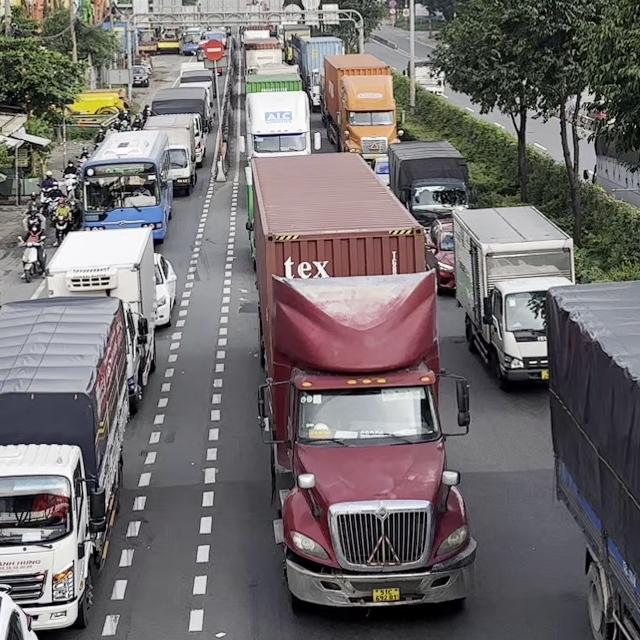bus: (79, 129, 173, 242)
car: (152, 252, 177, 328)
motorcycle: (16, 234, 46, 283)
truck: (255, 154, 477, 612), (0, 294, 137, 631), (545, 278, 639, 639), (451, 204, 575, 389), (39, 224, 156, 411), (319, 52, 405, 164), (387, 139, 475, 230), (242, 73, 312, 187), (141, 113, 199, 195), (150, 87, 207, 168), (289, 34, 345, 111)
